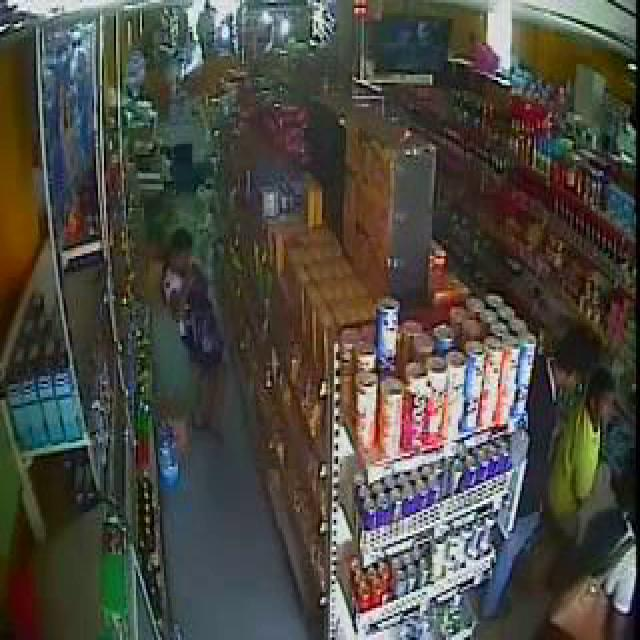shoplifting: (168, 216, 369, 612)
